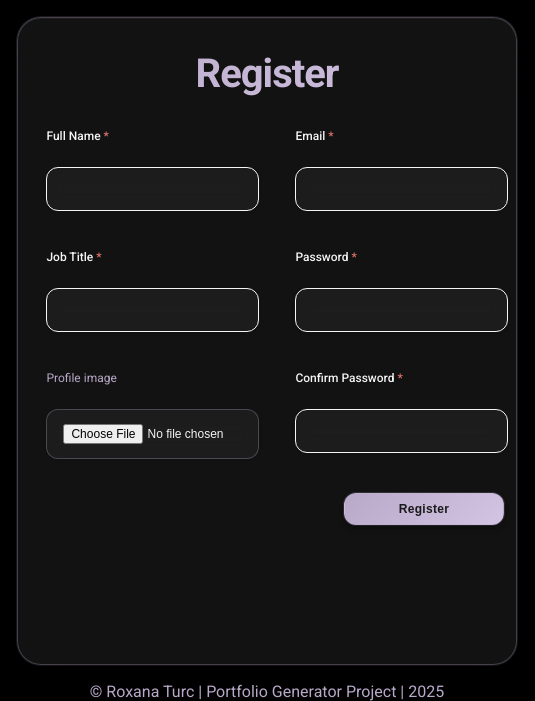
it: Register component › alerts the user if the user is already registered
Type "Test User" into the field labelled "Full Name *" at (153, 189), box [46,167,259,211]
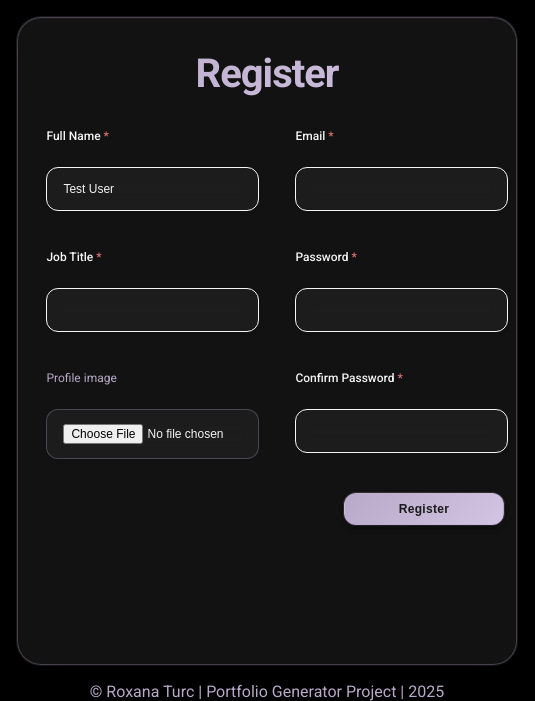
Type "user@example.com" into the field labelled "Email *" at (402, 189), box [295,167,508,211]
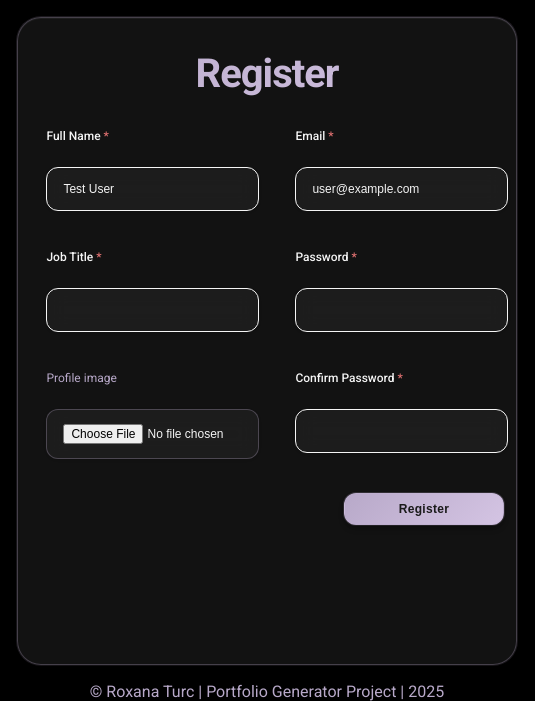
Type "Software Engineer" into the field labelled "Job Title *" at (153, 310), box [46,288,259,332]
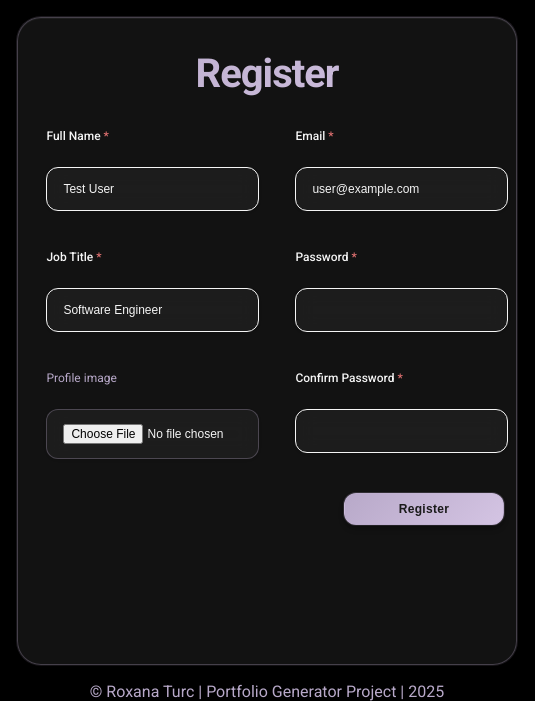
Type "password123" into the password field labelled "Password *" at (402, 310), box [295,288,508,332]
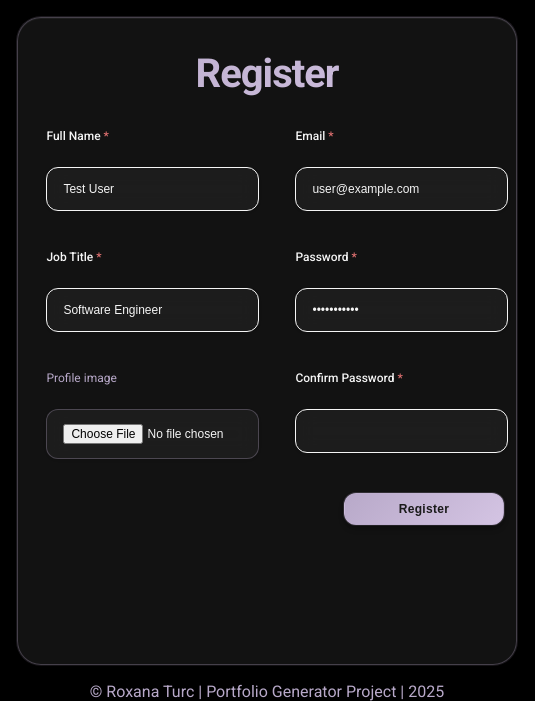
Type "password123" into the password field labelled "Confirm Password *" at (402, 430), box [295,408,508,452]
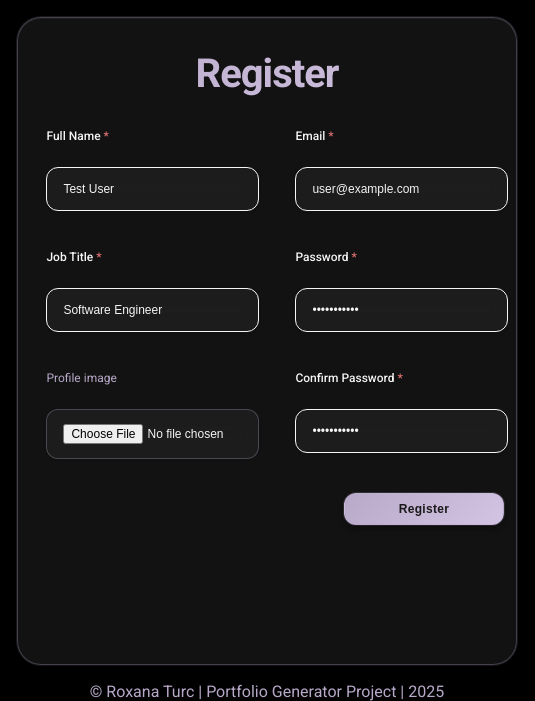
Submit the form with test id "register-form", box [18,113,516,552]
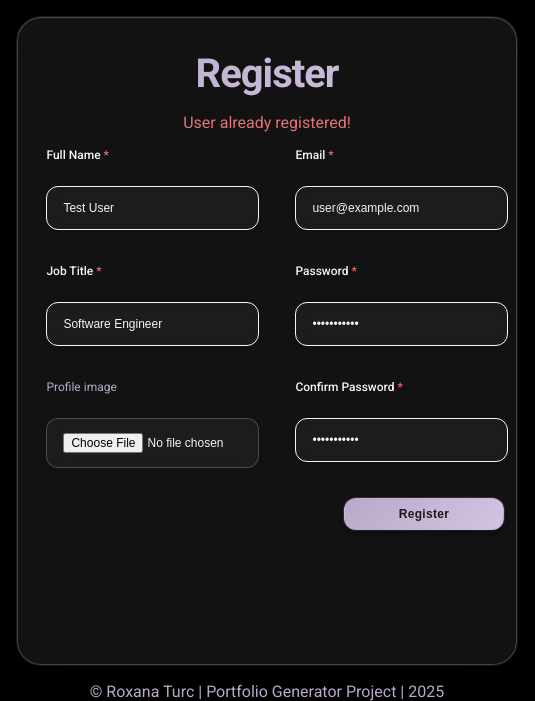
Expected: the message with test id "error-message" reads "User already registered!", [183,113,351,132]
